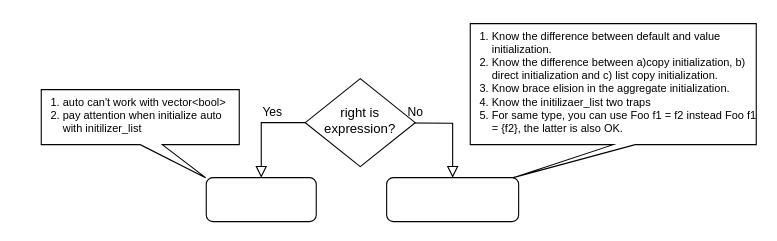
Some shapes in this 777 by 241 pixel diagram are drawn without their labels. The centre of each missing label's shape, as x and y in pixels:
"use auto" belongs at pixel 260 199.
"use list initialization" belongs at pixel 452 199.
